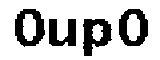0: (11, 2, 44, 51), (115, 5, 148, 49)
p: (81, 16, 114, 60)
u: (47, 15, 79, 52)
